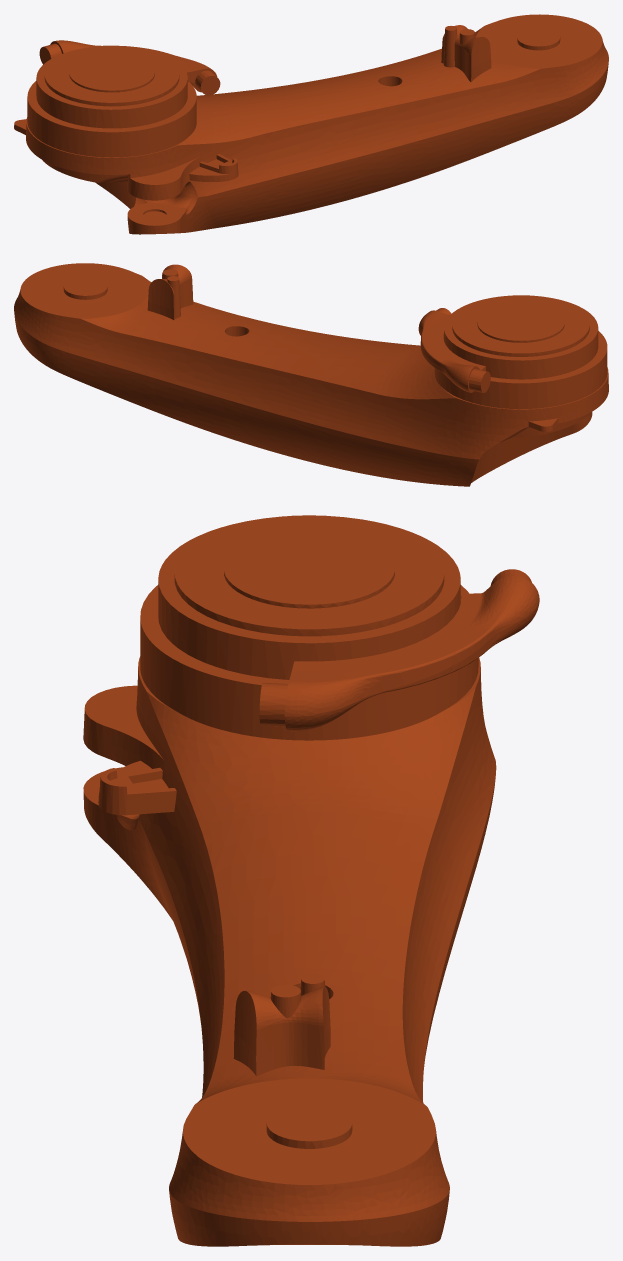
The model's file is like_kr240r2900_link_2_visuals_link_2_Scene_mesh.obj.
3 views of the same model, one above another, from view 1: azimuth 30°, elevation 25°; view 2: azimuth 150°, elevation 25°; view 3: azimuth 270°, elevation 25° (orthographic). The views are drawn at different scales.
Bounding box in the file's own units: 1.93 × 0.5589 × 0.679.
